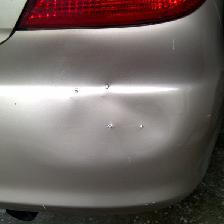dent: (28, 40, 218, 198)
